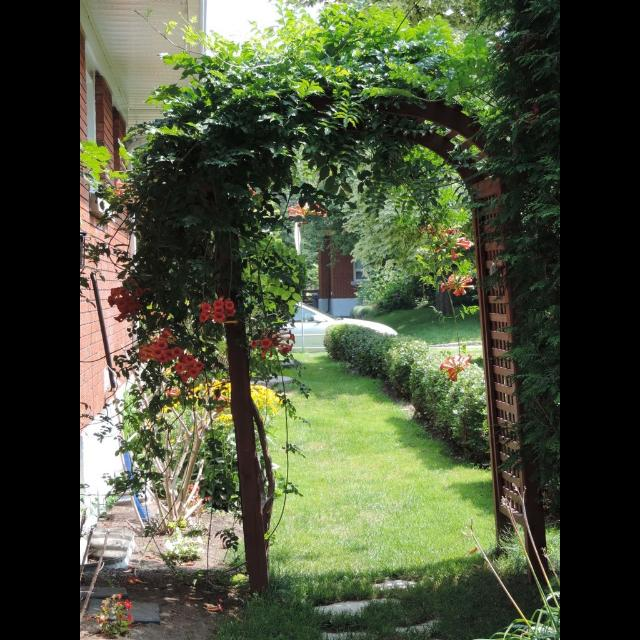Flower: (160, 376, 284, 426), (136, 328, 204, 388), (420, 222, 472, 294), (182, 292, 238, 328), (106, 278, 154, 320), (90, 596, 132, 628), (286, 197, 330, 226), (438, 350, 474, 382), (101, 179, 137, 205), (516, 103, 538, 131), (186, 484, 204, 511), (248, 186, 262, 216), (148, 302, 166, 318), (205, 603, 222, 615), (119, 565, 135, 575), (128, 578, 146, 586), (187, 594, 203, 602), (496, 41, 504, 50), (185, 558, 191, 566)
